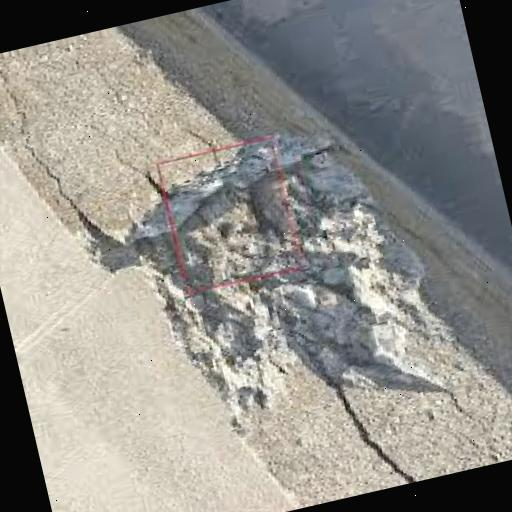spalling: (124, 138, 426, 420)
